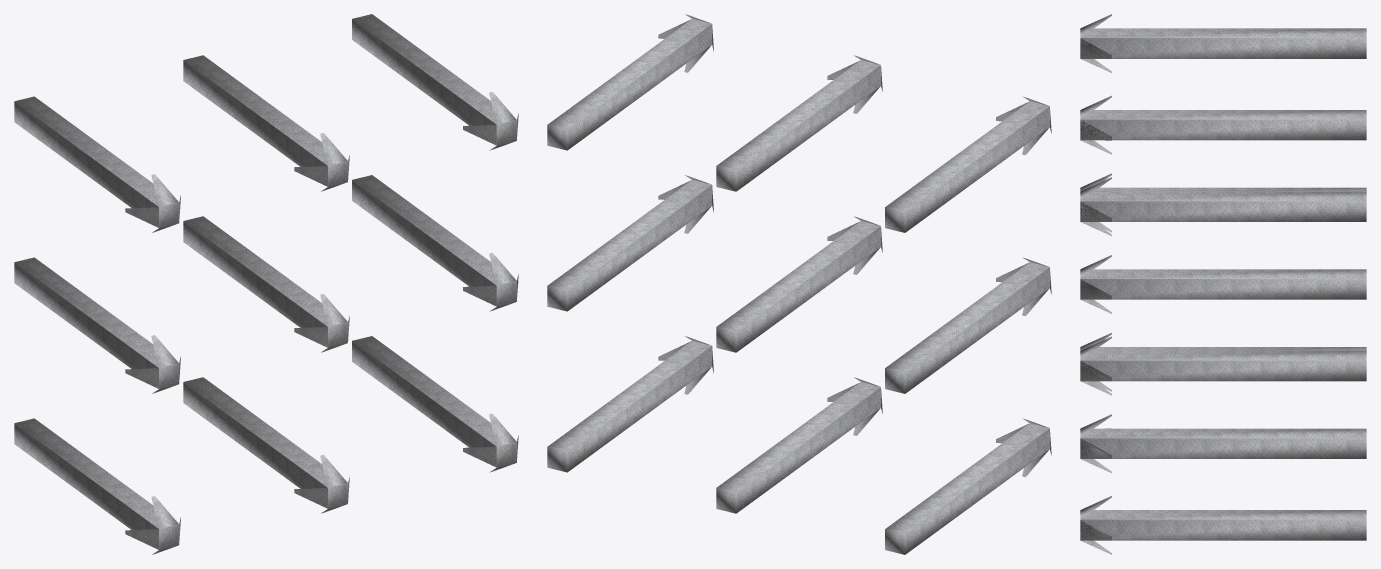
The model's file is arrowTrapArrow.fbx.
3 renders of one model, left to right at view 1: azimuth 30°, elevation 25°; view 2: azimuth 150°, elevation 25°; view 3: azimuth 270°, elevation 25°, orthographic.
Visible parts, largest first — view 1: Box008, Box009, Box007, Box006, Box004, Box005, Box001, Box003, Box002; view 2: Box002, Box001, Box003, Box004, Box005, Box006, Box009, Box007, Box008; view 3: Box002, Box003, Box004, Box005, Box006, Box001, Box009, Box008, Box007.
Boxes of the visible parts, left/top/right/bottom form: Box008: left=14, top=257, right=180, bottom=393; Box009: left=14, top=96, right=180, bottom=232; Box007: left=14, top=418, right=180, bottom=554; Box006: left=183, top=55, right=349, bottom=191; Box004: left=183, top=377, right=349, bottom=513; Box005: left=183, top=216, right=349, bottom=352; Box001: left=352, top=336, right=518, bottom=472; Box003: left=352, top=14, right=518, bottom=150; Box002: left=352, top=175, right=518, bottom=311; Box002: left=547, top=175, right=713, bottom=311; Box001: left=547, top=336, right=713, bottom=472; Box003: left=547, top=14, right=713, bottom=150; Box004: left=716, top=377, right=882, bottom=513; Box005: left=716, top=216, right=882, bottom=352; Box006: left=716, top=55, right=882, bottom=191; Box009: left=885, top=96, right=1051, bottom=232; Box007: left=885, top=418, right=1051, bottom=554; Box008: left=885, top=257, right=1051, bottom=393; Box002: left=1080, top=336, right=1366, bottom=395; Box003: left=1080, top=177, right=1366, bottom=236; Box004: left=1080, top=414, right=1366, bottom=473; Box005: left=1080, top=255, right=1366, bottom=313; Box006: left=1080, top=95, right=1366, bottom=154; Box001: left=1080, top=496, right=1366, bottom=554; Box009: left=1080, top=14, right=1366, bottom=72; Box008: left=1080, top=173, right=1366, bottom=232; Box007: left=1080, top=332, right=1366, bottom=391.
Bounding box in the file's own units: 78.44 × 72.44 × 50.
1 material, 1 textured.
